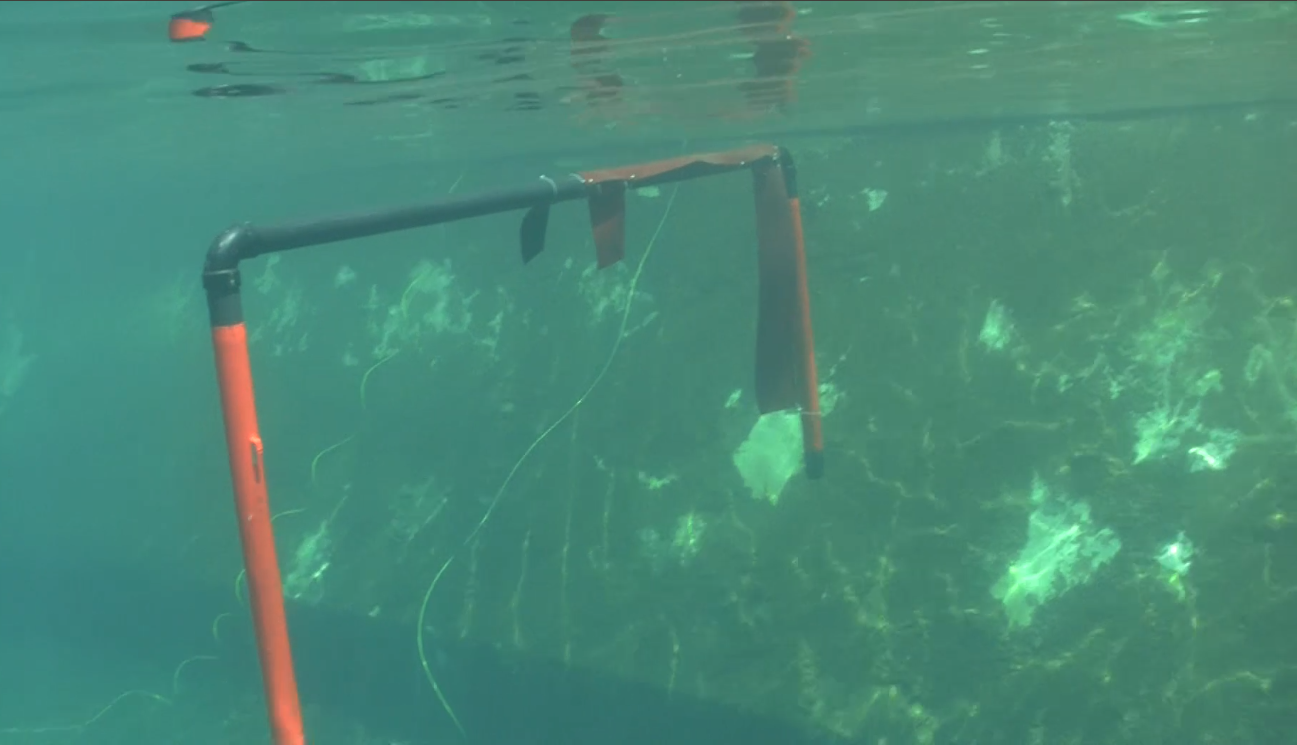gate: (193, 130, 842, 739)
